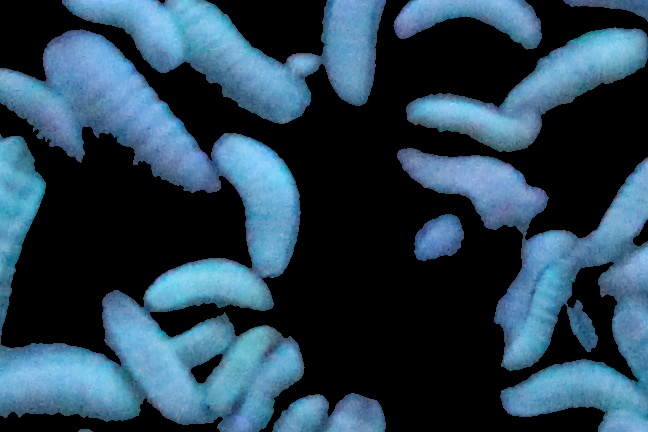larvae: (32, 15, 223, 211), (210, 125, 316, 277), (183, 1, 308, 122), (97, 302, 212, 426), (486, 29, 648, 112), (131, 249, 284, 327), (1, 343, 138, 430), (307, 1, 398, 128), (396, 147, 541, 223), (55, 1, 198, 77), (1, 63, 95, 172), (397, 88, 550, 154), (393, 1, 549, 63), (1, 145, 44, 357), (498, 362, 648, 419), (516, 259, 583, 370), (586, 156, 648, 259), (238, 340, 302, 423), (211, 325, 273, 406)
